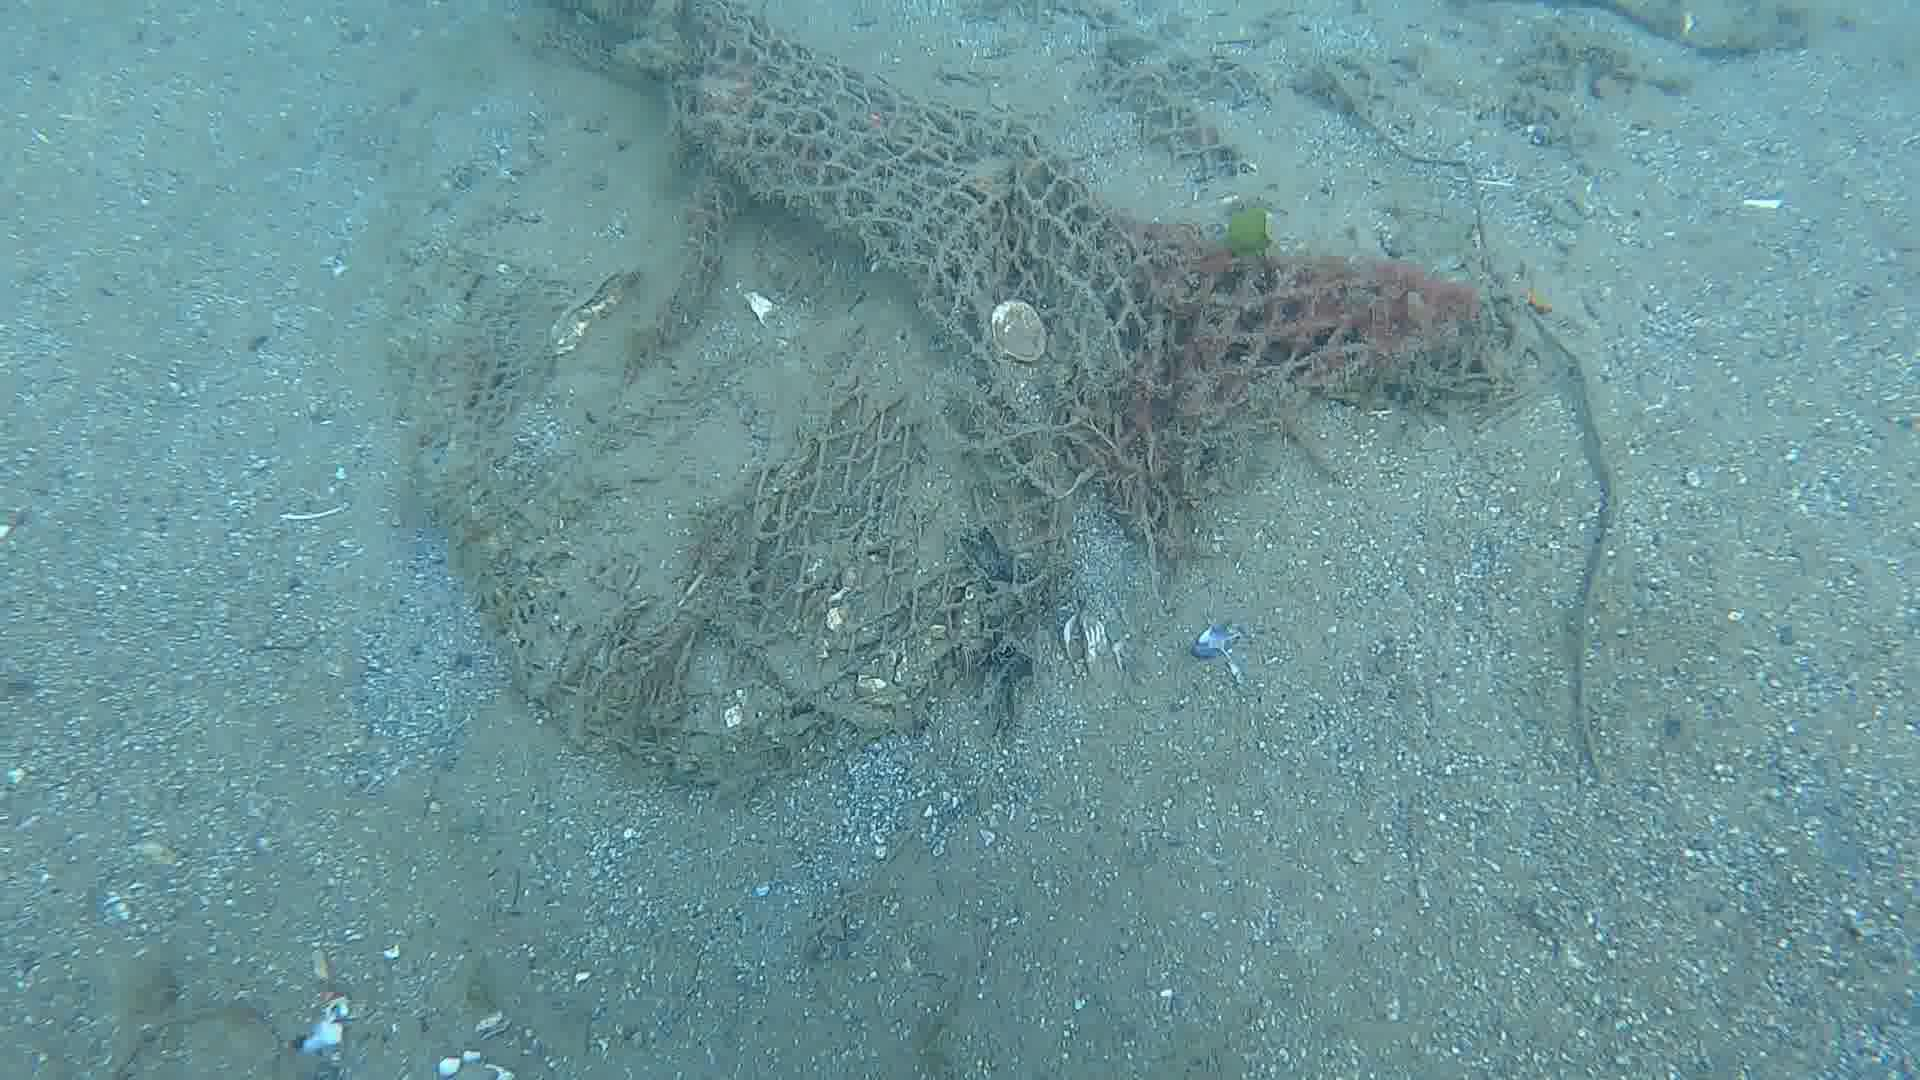fish net: (393, 0, 1505, 786)
